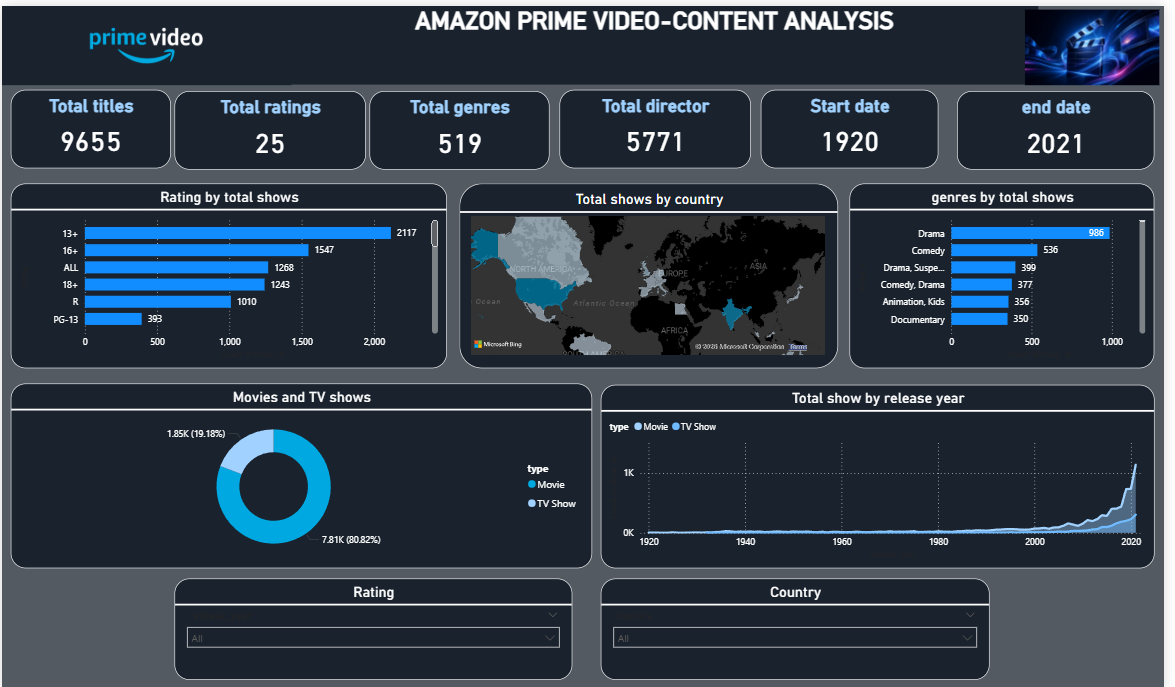

The dashboard page shown, as its layout file describes it:
{"tool":"powerbi","page":{"name":"Page 1","canvas":[1549,910],"ordinal":0},"visuals":[{"type":"donutChart","title":"Movies vs  TV Shows","fields":{"Category":["amazon_prime_titles.type"],"Y":["Count(amazon_prime_titles.show_id)"]},"box":[12.7,532.8,835.2,243.2],"z":1000},{"type":"slicer","title":" Release Year","fields":{"Values":["amazon_prime_titles.release_year"]},"box":[940.9,797.1,378.5,112.1],"z":2000},{"type":"image","box":[12.2,0,475.6,140],"z":3000},{"type":"columnChart","title":"Content by Rating","fields":{"Category":["amazon_prime_titles.rating"],"Y":["Count(amazon_prime_titles.show_id)"]},"box":[12.7,264.3,507.4,268.5],"z":4000},{"type":"barChart","title":"Top Genres by Titles","fields":{"Y":["Count(amazon_prime_titles.show_id)"],"Category":["amazon_prime_titles.listed_in"]},"box":[532.8,264.3,503.2,268.5],"z":5000},{"type":"card","title":"Total Titles","fields":{"Values":["Count(amazon_prime_titles.title)"]},"box":[12.7,154.3,224.1,105.7],"z":6000},{"type":"card","title":"Rating Categories","fields":{"Values":["Count(amazon_prime_titles.rating)"]},"box":[249.5,154.3,255.8,105.7],"z":7000},{"type":"card","title":"Unique Genres","fields":{"Values":["Count(amazon_prime_titles.listed_in)"]},"box":[520.1,154.3,238.9,105.7],"z":8000},{"type":"card","title":"Total Directors","fields":{"Values":["Count(amazon_prime_titles.director)"]},"box":[773.9,158.6,241,103.6],"z":9000},{"type":"card","title":"First Release Year","fields":{"Values":["Min(amazon_prime_titles.release_year)"]},"box":[1036,158.6,236.8,105.7],"z":10000},{"type":"card","title":"Latest Release Year","fields":{"Values":["Max(amazon_prime_titles.release_year)"]},"box":[1287.6,160.7,247.4,103.6],"z":11000},{"type":"slicer","title":"Rating","fields":{"Values":["amazon_prime_titles.rating"]},"box":[467.3,797.1,444,112.1],"z":12000},{"type":"textbox","title":"AMAZON PRIME VIDEO – CONTENT ANALYSIS","box":[466.7,0,851.1,140],"z":13000},{"type":"image","box":[1303.8,0,245,140],"z":14000},{"type":"lineChart","title":"Titles by Release Year","fields":{"Category":["amazon_prime_titles.release_year"],"Y":["CountNonNull(amazon_prime_titles.show_id)"]},"box":[866.9,532.8,682.9,243.2],"z":14001},{"type":"azureMap","fields":{"Category":["amazon_prime_titles.country"],"Series":["amazon_prime_titles.show_id"]},"box":[1035.3,265.3,428.5,350.7],"z":14002}]}

Visuals, with their boxes in screenshot pixels (x1, y1, x2, y2), scaled from the page's 1549x910 canvas onto the 1175x687 screenshot:
"Movies vs  TV Shows" donutChart: rect(10, 402, 643, 586)
" Release Year" slicer: rect(714, 602, 1001, 686)
image: rect(9, 0, 370, 106)
"Content by Rating" columnChart: rect(10, 200, 395, 402)
"Top Genres by Titles" barChart: rect(404, 200, 786, 402)
"Total Titles" card: rect(10, 116, 180, 196)
"Rating Categories" card: rect(189, 116, 383, 196)
"Unique Genres" card: rect(395, 116, 576, 196)
"Total Directors" card: rect(587, 120, 770, 198)
"First Release Year" card: rect(786, 120, 965, 200)
"Latest Release Year" card: rect(977, 121, 1164, 200)
"Rating" slicer: rect(354, 602, 691, 686)
"AMAZON PRIME VIDEO – CONTENT ANALYSIS" textbox: rect(354, 0, 1000, 106)
image: rect(989, 0, 1174, 106)
"Titles by Release Year" lineChart: rect(658, 402, 1174, 586)
azureMap - amazon_prime_titles.country x amazon_prime_titles.show_id: rect(785, 200, 1110, 465)
